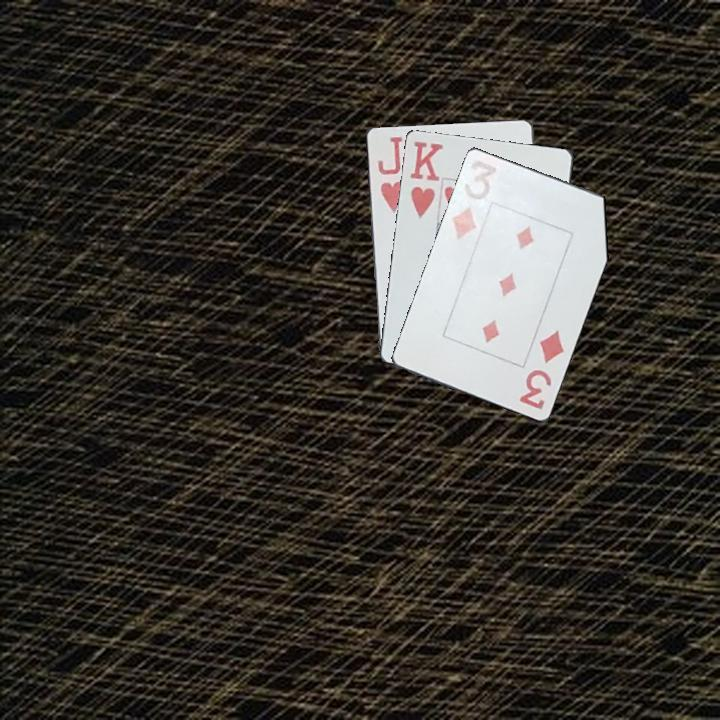3d: (448, 156, 503, 242), (515, 326, 569, 412)
Jh: (374, 133, 407, 215)
Kh: (406, 137, 446, 222)
